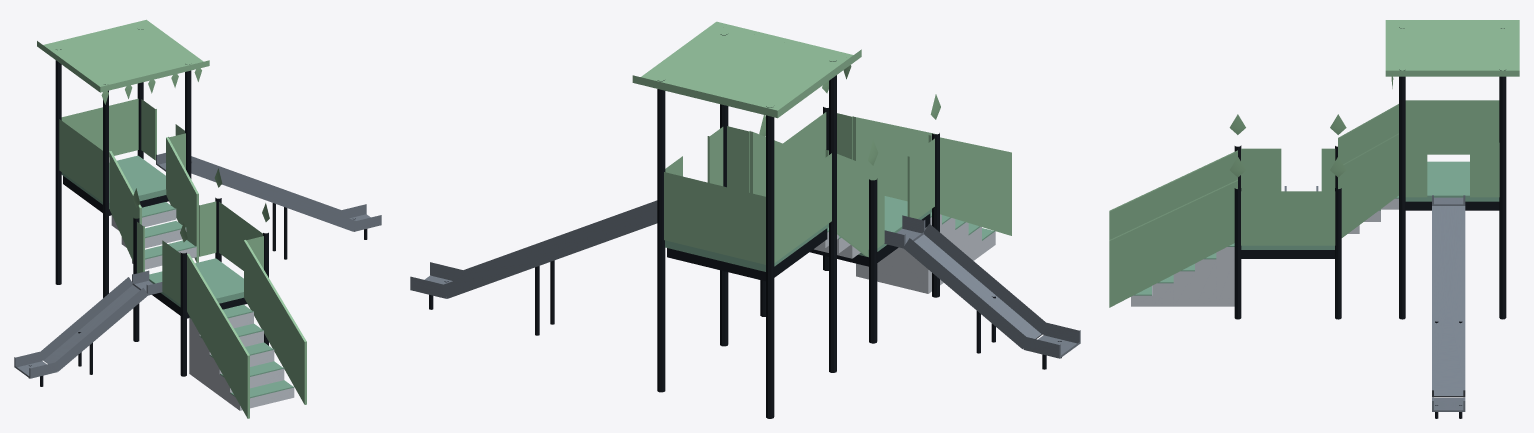
3 views of the same model, side by side, from view 1: azimuth 30°, elevation 25°; view 2: azimuth 150°, elevation 25°; view 3: azimuth 270°, elevation 25° (orthographic). The views are drawn at different scales.
Visible parts, largest first — view 1: Stair_Cheeks, Guard_Panels, Slide_Chute, Canopy, Posts, Stair_Cast, Decks, Treads_Rubber, Deck_Frame, Slide_Legs, Leaf_Crests, Canopy_Leaves; view 2: Guard_Panels, Stair_Cheeks, Slide_Chute, Canopy, Posts, Stair_Cast, Deck_Frame, Decks, Slide_Legs; view 3: Stair_Cheeks, Guard_Panels, Canopy, Slide_Chute, Posts, Stair_Cast, Decks, Deck_Frame, Leaf_Crests.
Boxes of the visible parts, <box> form: Stair_Cheeks: <box>109,137,306,418</box>; Guard_Panels: <box>59,98,263,304</box>; Slide_Chute: <box>14,153,381,378</box>; Canopy: <box>37,19,209,92</box>; Posts: <box>55,29,268,376</box>; Stair_Cast: <box>111,209,294,410</box>; Decks: <box>61,155,243,307</box>; Treads_Rubber: <box>142,202,294,398</box>; Deck_Frame: <box>63,176,247,318</box>; Slide_Legs: <box>29,203,367,386</box>; Leaf_Crests: <box>132,168,269,242</box>; Canopy_Leaves: <box>101,68,201,104</box>; Guard_Panels: <box>664,112,934,264</box>; Stair_Cheeks: <box>750,116,1011,256</box>; Slide_Chute: <box>410,200,1080,358</box>; Canopy: <box>632,21,861,118</box>; Posts: <box>657,34,939,418</box>; Stair_Cast: <box>814,214,995,293</box>; Deck_Frame: <box>667,213,930,281</box>; Decks: <box>665,200,931,271</box>; Slide_Legs: <box>429,260,1061,369</box>; Stair_Cheeks: <box>1109,104,1398,307</box>; Guard_Panels: <box>1241,100,1499,245</box>; Canopy: <box>1385,20,1519,76</box>; Slide_Chute: <box>1284,186,1465,411</box>; Posts: <box>1234,27,1506,319</box>; Stair_Cast: <box>1131,198,1398,306</box>; Decks: <box>1241,161,1499,249</box>; Deck_Frame: <box>1241,201,1499,258</box>; Leaf_Crests: <box>1229,114,1346,177</box>.
Size of what is drawn, in the model's own units: 7.69 by 4.2 by 6.13.
Materials: 6 (3 with a texture image).
